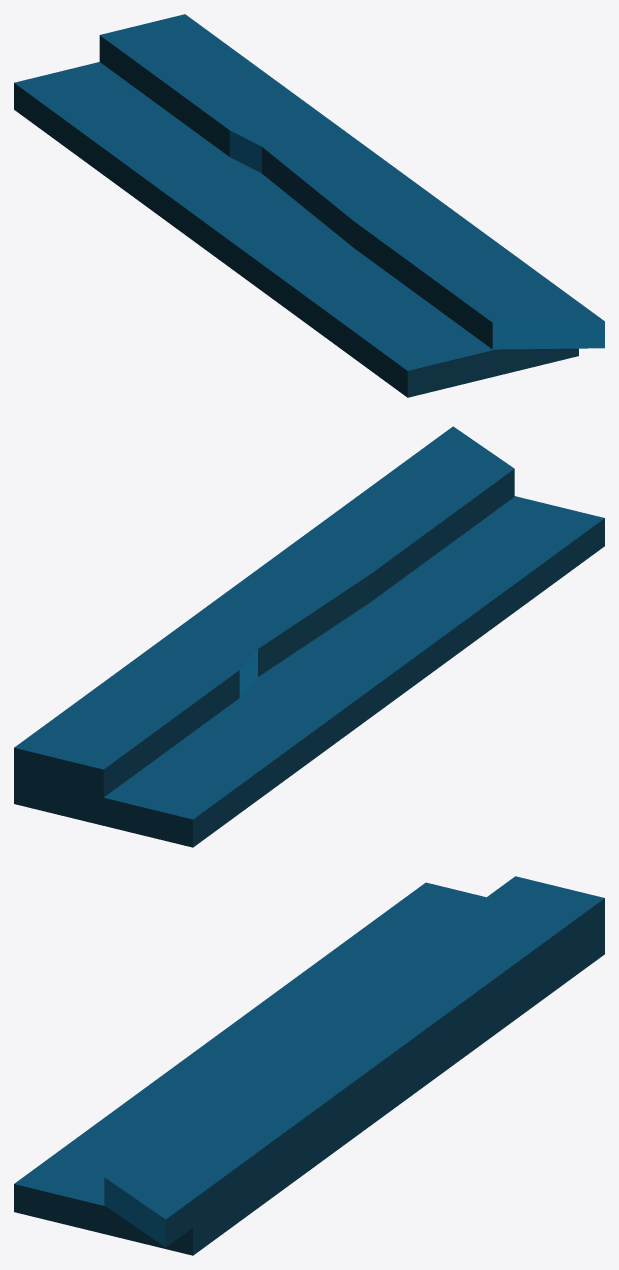
The model's file is stair_type_02.fbx.
3 views of the same model, one above another, from view 1: azimuth 30°, elevation 25°; view 2: azimuth 150°, elevation 25°; view 3: azimuth 330°, elevation 25° (orthographic). The views are drawn at different scales.
Visible parts, largest first — view 1: stair_type_02; view 2: stair_type_02; view 3: stair_type_02.
Boxes of the visible parts, box(x1,y1,x2,y2) form: stair_type_02: box(14, 14, 604, 397); stair_type_02: box(14, 426, 604, 847); stair_type_02: box(14, 876, 604, 1255).
Bounding box in the file's own units: 60 × 18 × 255.
